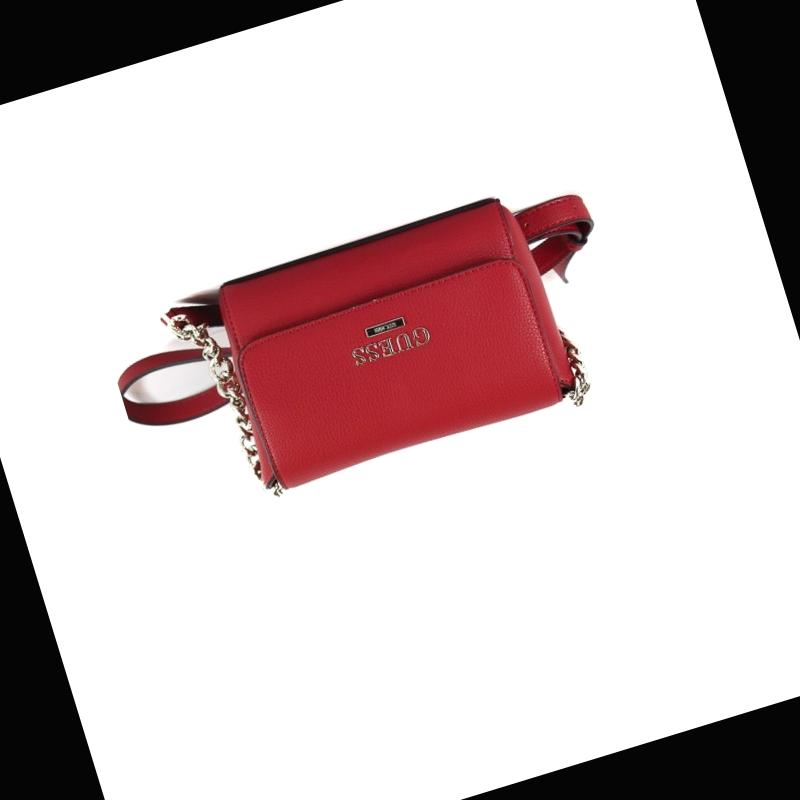GUESS: (349, 324, 431, 366)
